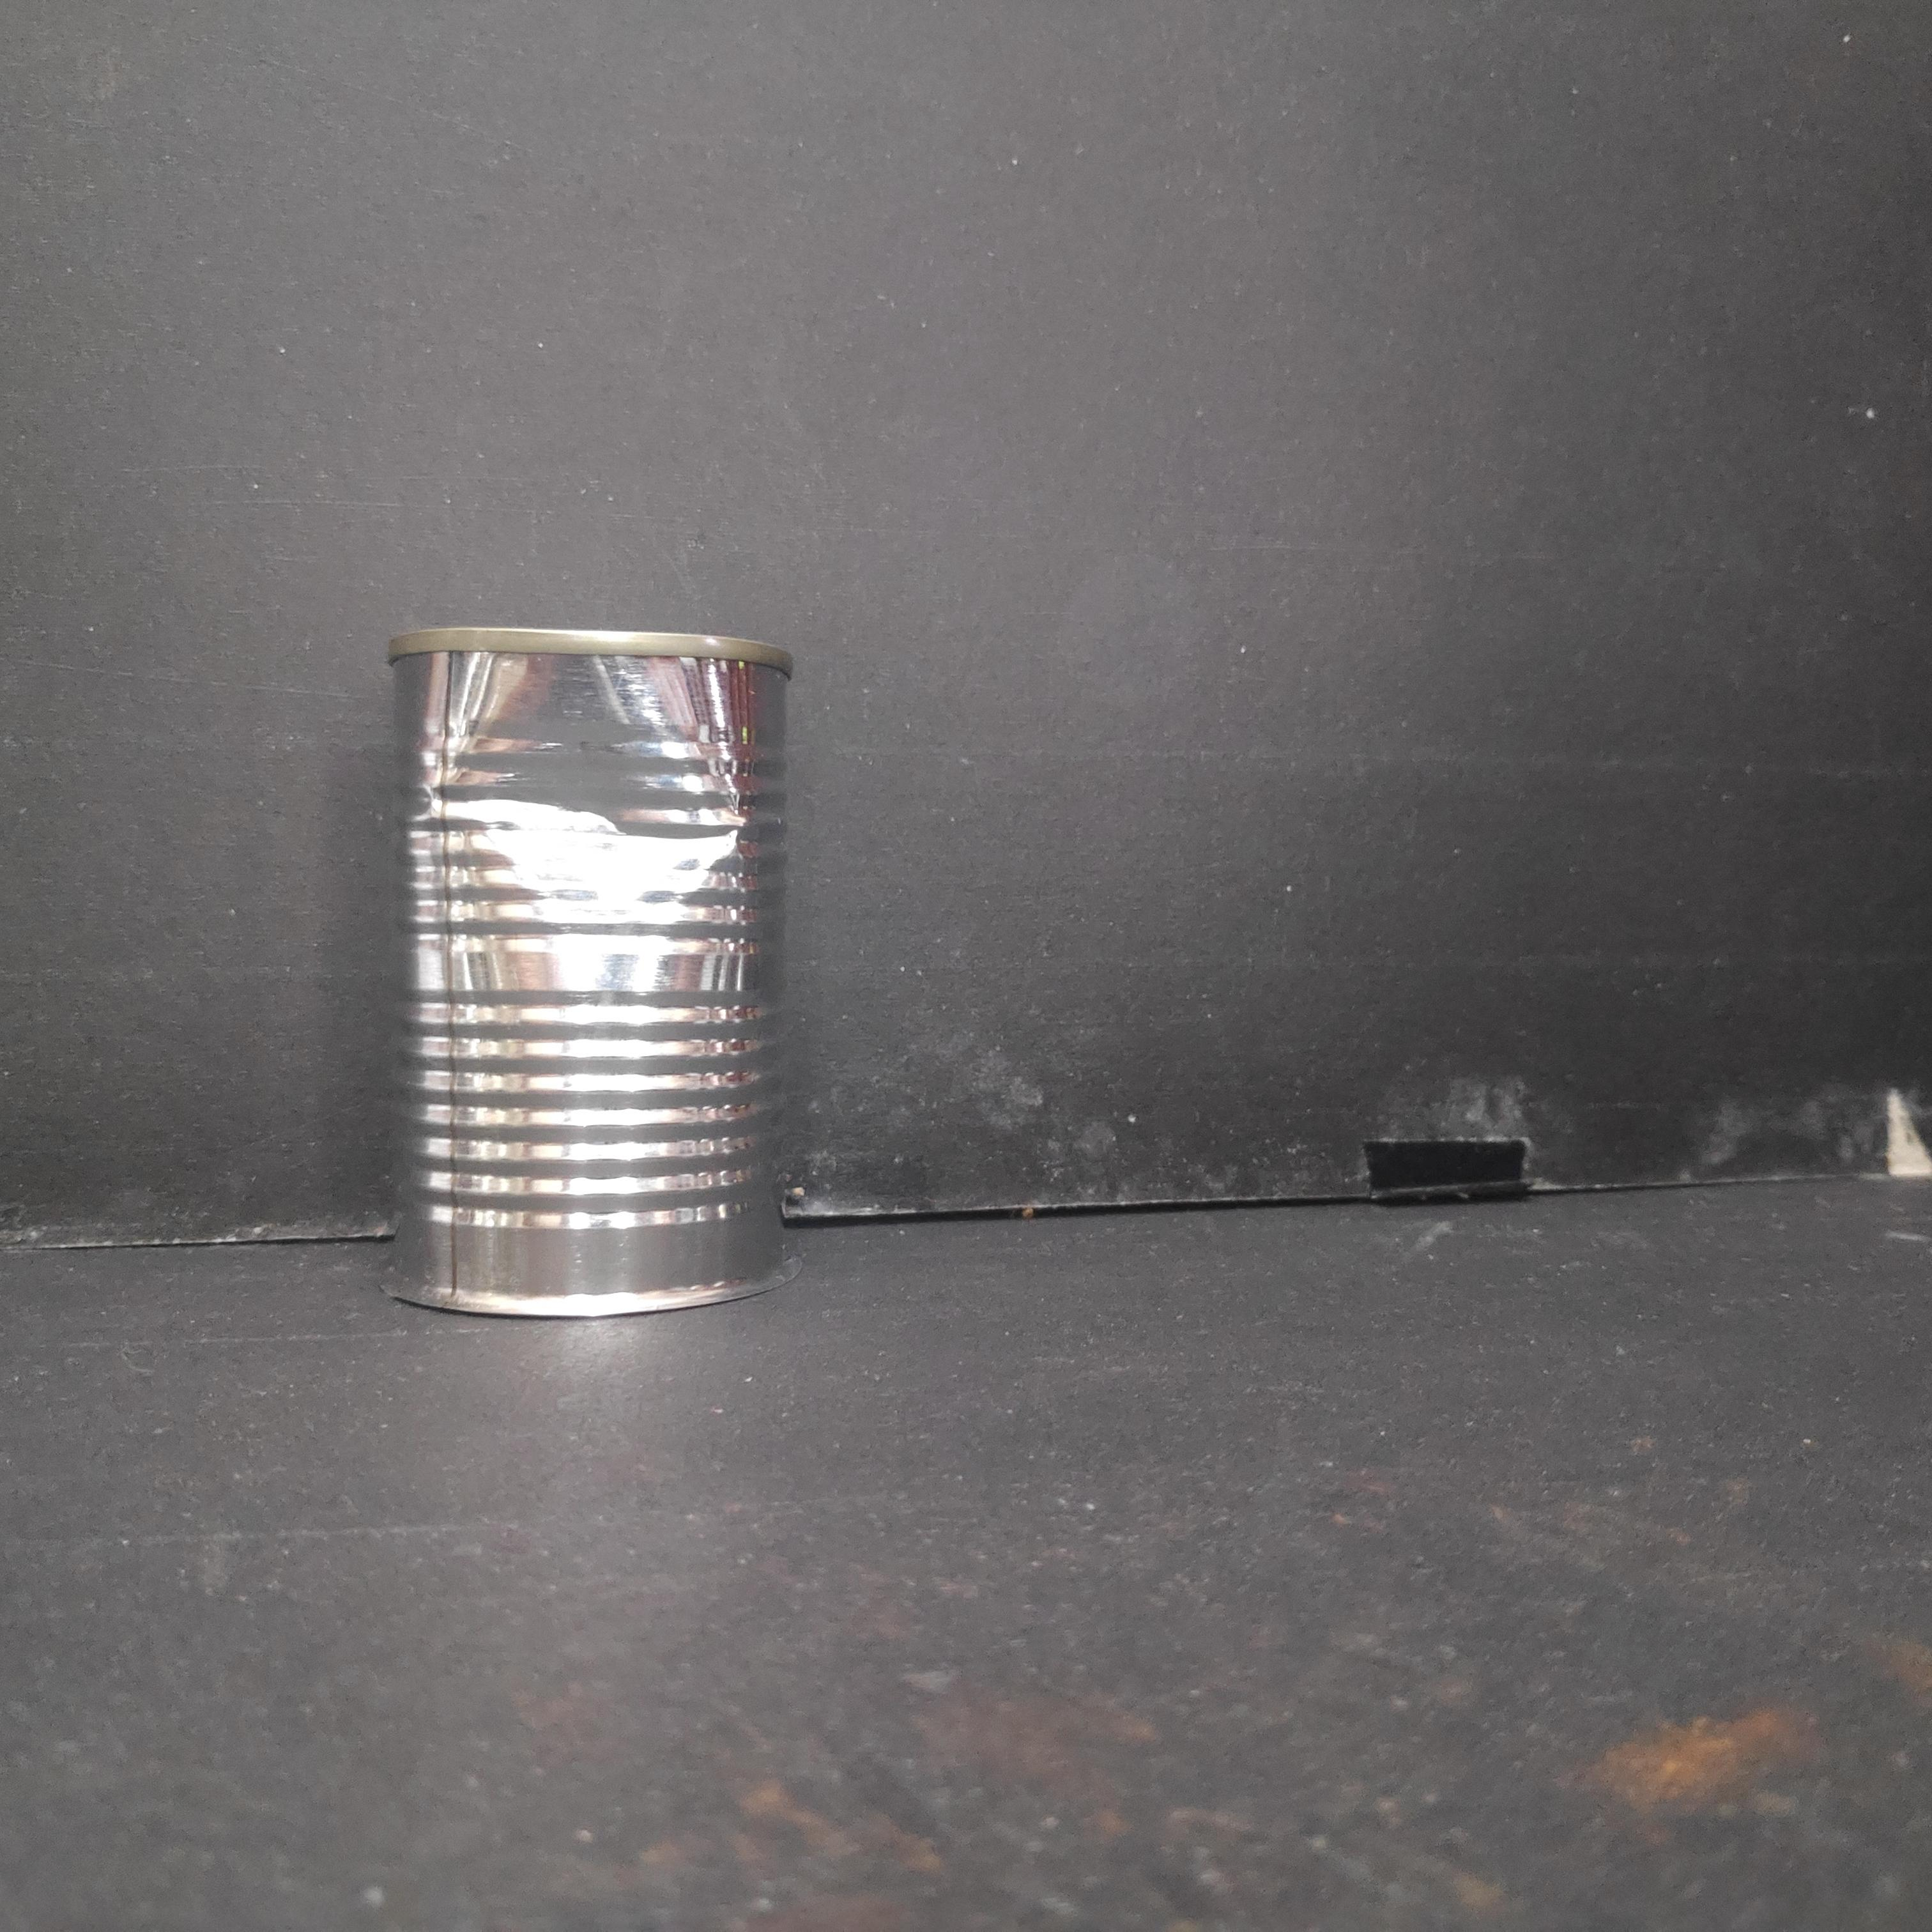Minor Defect: (372, 621, 801, 1325)
